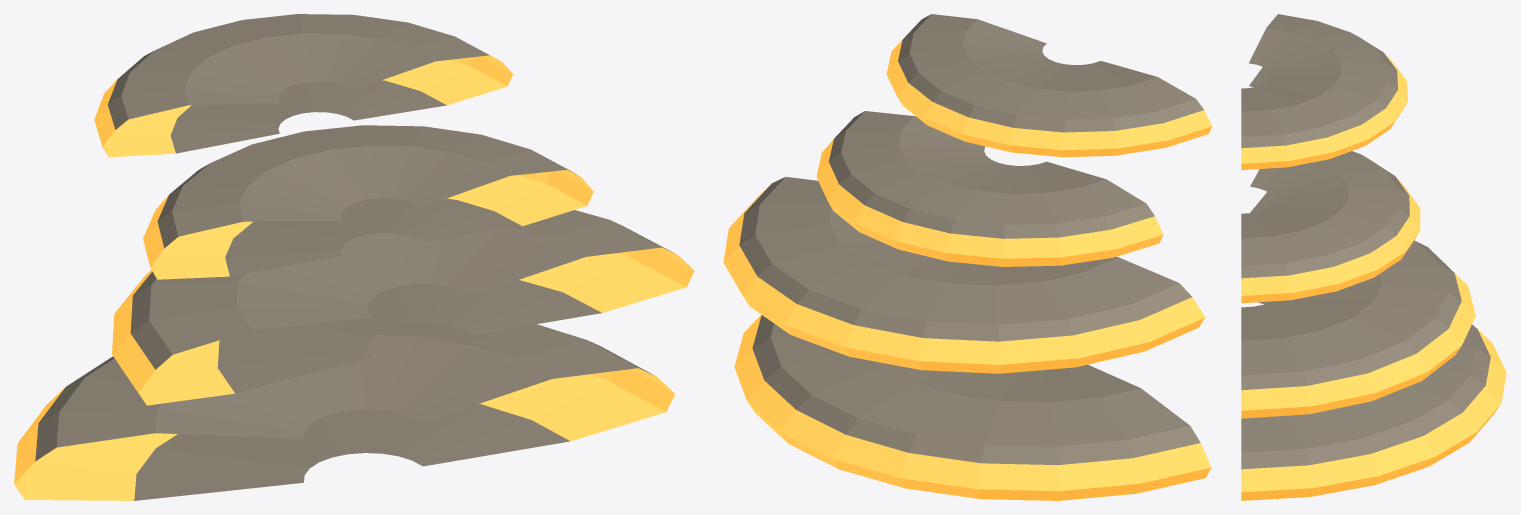
Rendered from shelf_v03.glb.
3 renders of one model, left to right at view 1: azimuth 30°, elevation 25°; view 2: azimuth 150°, elevation 25°; view 3: azimuth 270°, elevation 25°, orthographic. The views are drawn at different scales.
Visible parts, largest first — view 1: mushroom_shelf_flesh_nocol, mushroom_shelf_glow_nocol; view 2: mushroom_shelf_flesh_nocol, mushroom_shelf_glow_nocol; view 3: mushroom_shelf_flesh_nocol, mushroom_shelf_glow_nocol.
Boxes of the visible parts, left/top/right/bottom form: mushroom_shelf_flesh_nocol: left=35, top=14, right=674, bottom=500; mushroom_shelf_glow_nocol: left=14, top=55, right=694, bottom=500; mushroom_shelf_flesh_nocol: left=739, top=14, right=1203, bottom=464; mushroom_shelf_glow_nocol: left=723, top=40, right=1212, bottom=500; mushroom_shelf_flesh_nocol: left=1241, top=14, right=1490, bottom=469; mushroom_shelf_glow_nocol: left=1241, top=53, right=1506, bottom=500.
Bounding box in the file's own units: 1.85 × 1.2 × 0.9363.
